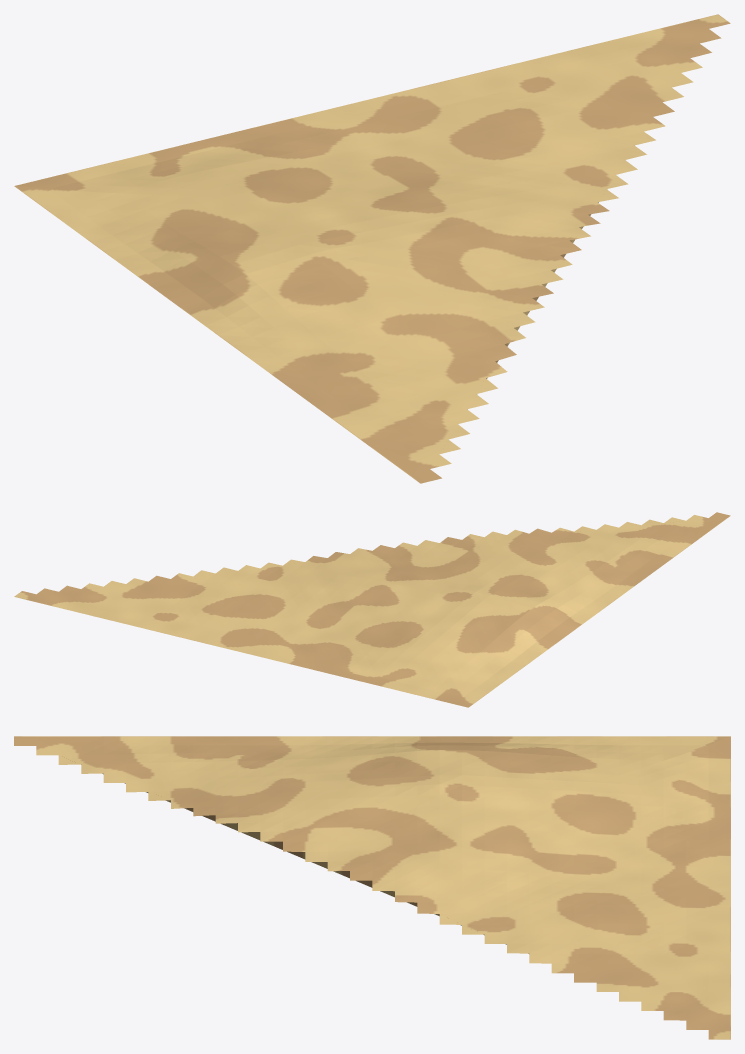
Rendered from Desert_Flat_04_SW.obj.
The picture shows the model from 3 angles, top to bottom: view 1: azimuth 30°, elevation 25°; view 2: azimuth 150°, elevation 25°; view 3: azimuth 270°, elevation 25°; orthographic projection. The views are drawn at different scales.
Bounding box in the file's own units: 10 × 0.284 × 10.
Materials: 1 (1 with a texture image).
